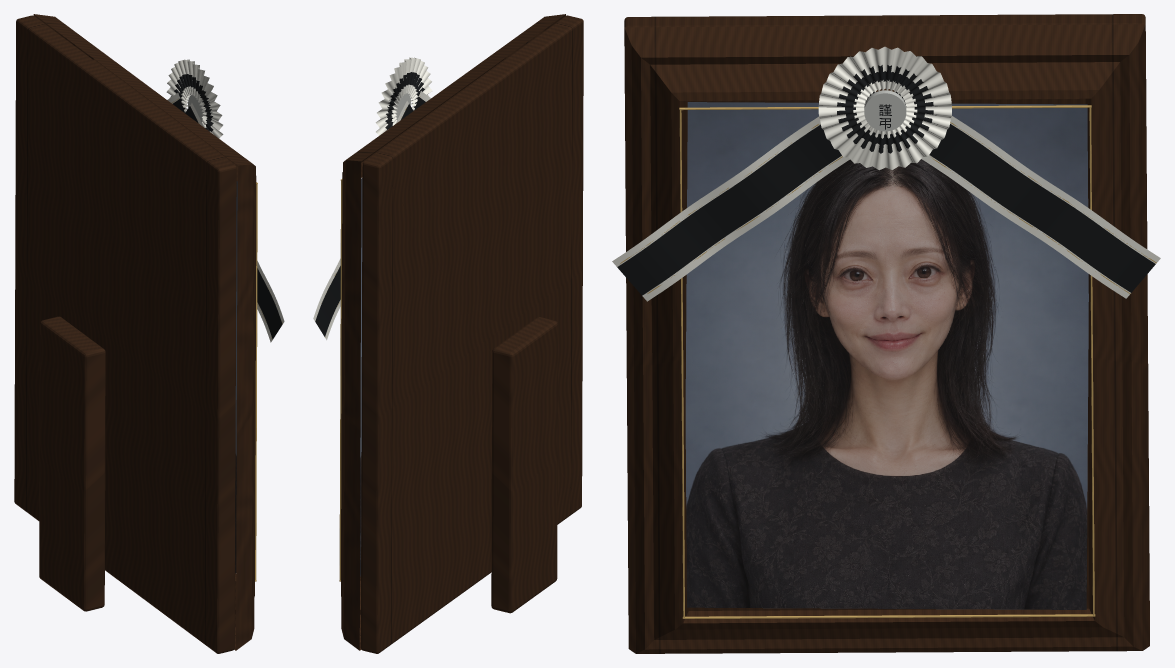
The model's file is FuneralHall_Portarait_Of_Woman.fbx.
3 renders of one model, left to right at view 1: azimuth 30°, elevation 25°; view 2: azimuth 150°, elevation 25°; view 3: azimuth 270°, elevation 25°, orthographic. The views are drawn at different scales.
Parts seen in each view (by area): view 1: Funeral_Portarait_Of_Woman_10, Funeral_Portarait_Of_Woman_07, Funeral_Portarait_Of_Woman_11, Funeral_Portarait_Of_Woman_12, Funeral_Portarait_Of_Woman_08, Funeral_Portarait_Of_Woman_04, Funeral_Portarait_Of_Woman_01; view 2: Funeral_Portarait_Of_Woman_10, Funeral_Portarait_Of_Woman_07, Funeral_Portarait_Of_Woman_11, Funeral_Portarait_Of_Woman_12, Funeral_Portarait_Of_Woman_08, Funeral_Portarait_Of_Woman_03, Funeral_Portarait_Of_Woman_01; view 3: Funeral_Portarait_Of_Woman_01, Funeral_Portarait_Of_Woman_11, Funeral_Portarait_Of_Woman_08, Funeral_Portarait_Of_Woman_12, Funeral_Portarait_Of_Woman_10, Funeral_Portarait_Of_Woman_09, Funeral_Portarait_Of_Woman_05, Funeral_Portarait_Of_Woman_03, Funeral_Portarait_Of_Woman_04, Funeral_Portarait_Of_Woman_06.
Boxes of the visible parts, x1,y1,x2,y2 form: Funeral_Portarait_Of_Woman_10: (14, 15, 236, 653); Funeral_Portarait_Of_Woman_07: (39, 316, 105, 611); Funeral_Portarait_Of_Woman_11: (33, 14, 256, 650); Funeral_Portarait_Of_Woman_12: (166, 59, 223, 138); Funeral_Portarait_Of_Woman_08: (167, 93, 284, 342); Funeral_Portarait_Of_Woman_04: (255, 184, 257, 580); Funeral_Portarait_Of_Woman_01: (235, 181, 237, 572); Funeral_Portarait_Of_Woman_10: (360, 15, 583, 653); Funeral_Portarait_Of_Woman_07: (491, 317, 557, 613); Funeral_Portarait_Of_Woman_11: (341, 14, 565, 650); Funeral_Portarait_Of_Woman_12: (375, 57, 432, 135); Funeral_Portarait_Of_Woman_08: (313, 91, 430, 340); Funeral_Portarait_Of_Woman_03: (339, 181, 342, 580); Funeral_Portarait_Of_Woman_01: (360, 178, 362, 576); Funeral_Portarait_Of_Woman_01: (685, 102, 1088, 609); Funeral_Portarait_Of_Woman_11: (624, 24, 1149, 653); Funeral_Portarait_Of_Woman_08: (612, 92, 1160, 301); Funeral_Portarait_Of_Woman_12: (818, 46, 951, 170); Funeral_Portarait_Of_Woman_10: (624, 14, 1149, 610); Funeral_Portarait_Of_Woman_09: (864, 90, 906, 131); Funeral_Portarait_Of_Woman_05: (682, 614, 1095, 618); Funeral_Portarait_Of_Woman_03: (1089, 107, 1094, 615); Funeral_Portarait_Of_Woman_04: (679, 110, 684, 617); Funeral_Portarait_Of_Woman_06: (679, 105, 1091, 110).
Size of the model in its own units: 27.13 by 89.75 by 69.65.
6 materials, 2 textured.
